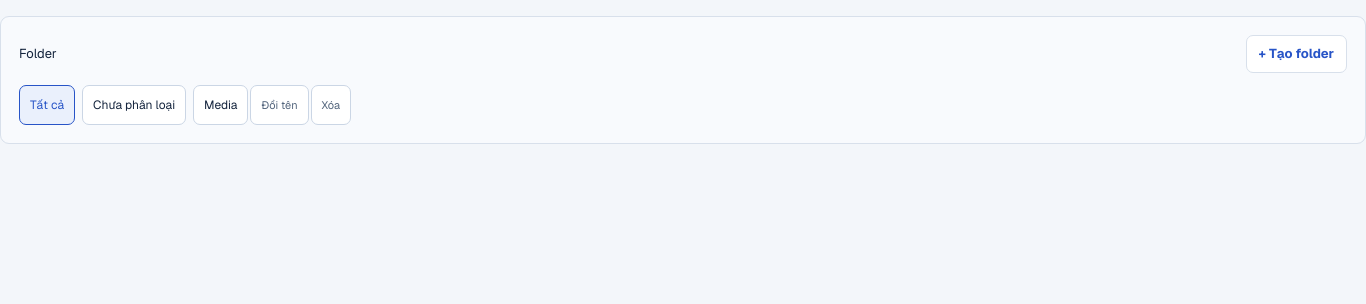
Scenario: FolderNavigator › explains nonempty-folder deletion conflicts and keeps retry available
This screenshot has width=1366, height=304.
What coordinates should you click on to do the following:
click the button with aria-label "Xóa Media"
I would click on:
 (331, 105)
Its box is [310,85,351,125].
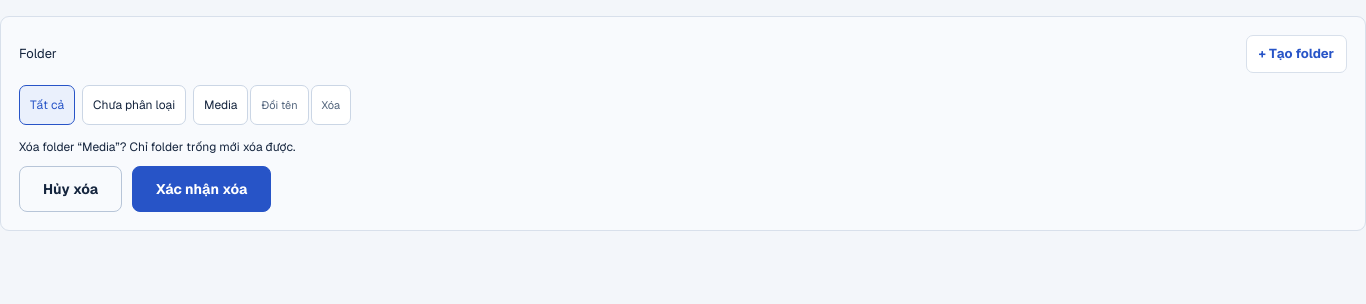
What coordinates should you click on to do the following:
click the button "Xác nhận xóa"
I would click on:
 (202, 189)
Its box is [132,166,271,212].
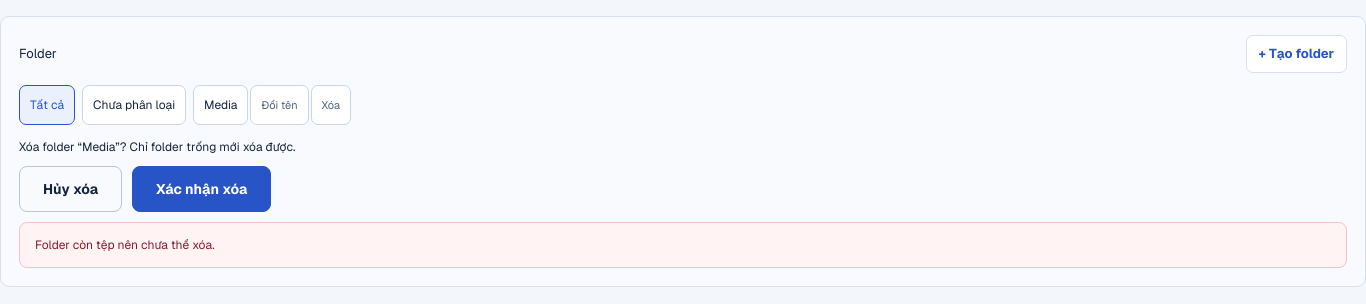
Now the button "Xác nhận xóa" is enabled, box [132,166,271,212]
Now the message shows "Folder còn tệp", box [35,237,215,253]
